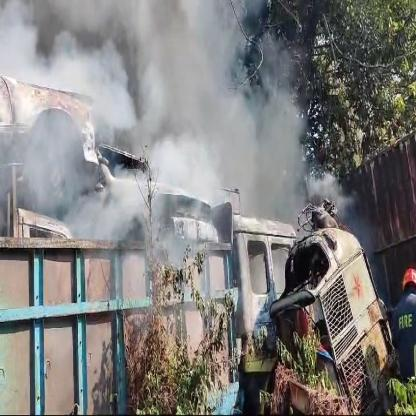Smoke: (0, 0, 368, 285)
